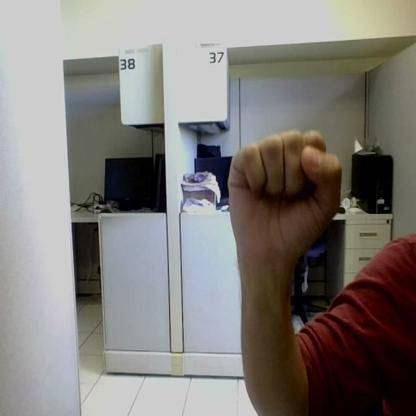S: (228, 130, 342, 242)
